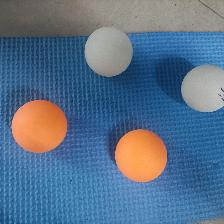WhiteBall: (83, 27, 132, 77), (180, 64, 224, 112)
YellowBall: (10, 100, 67, 151), (115, 128, 167, 181)
